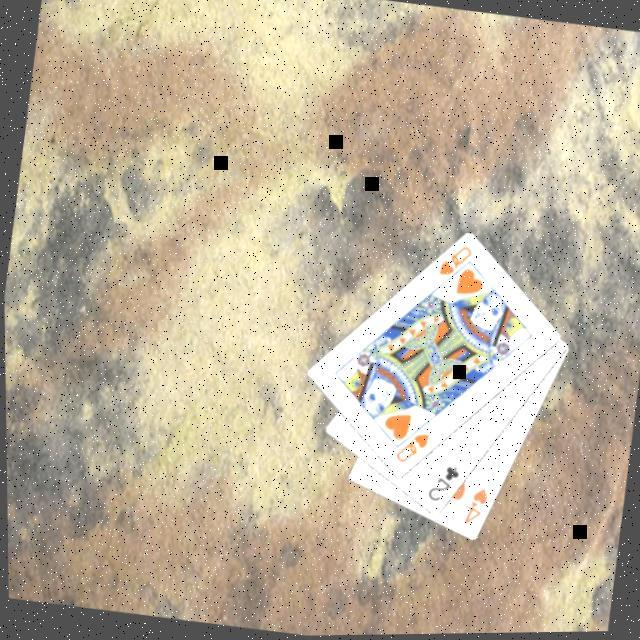2C: (420, 460, 462, 508)
4H: (456, 484, 491, 530)
QH: (431, 239, 476, 294), (388, 426, 432, 471)
